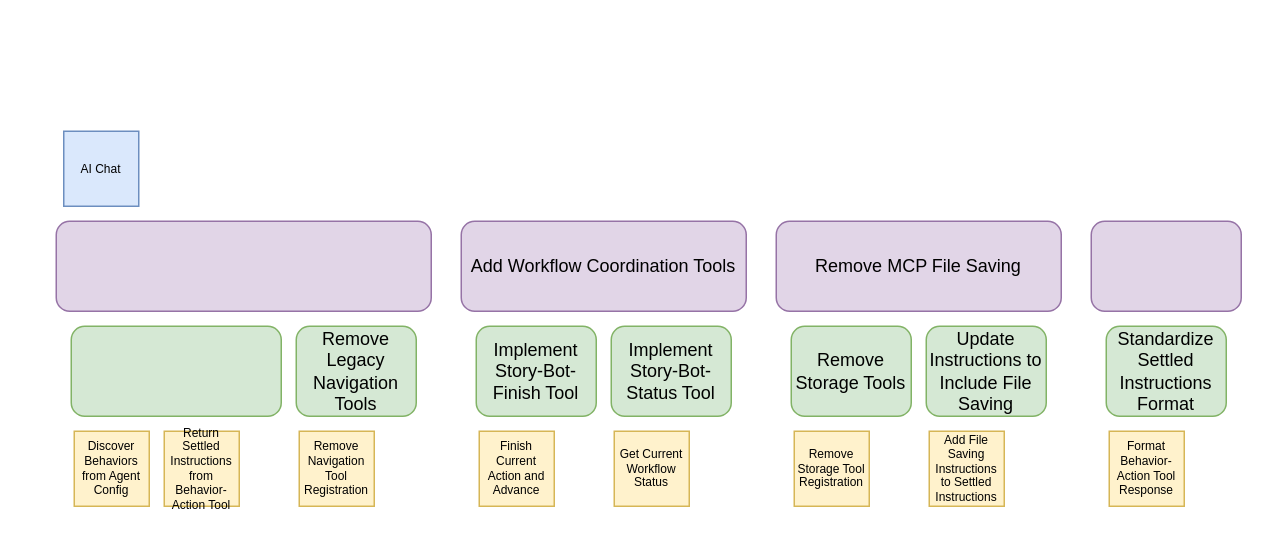
Image size: 1268x537. Some labels were removed from this diagram. The shapes that lost their labels are listed below. From the top down, each one's box as (x1, y1, x2, y2) in pixels, then its label:
(55, 220, 431, 311): Create Behavior-First Tools
(1090, 220, 1241, 311): Simplify Tool Response Format
(70, 325, 281, 416): Generate Behavior-Action Tools Dynamically
